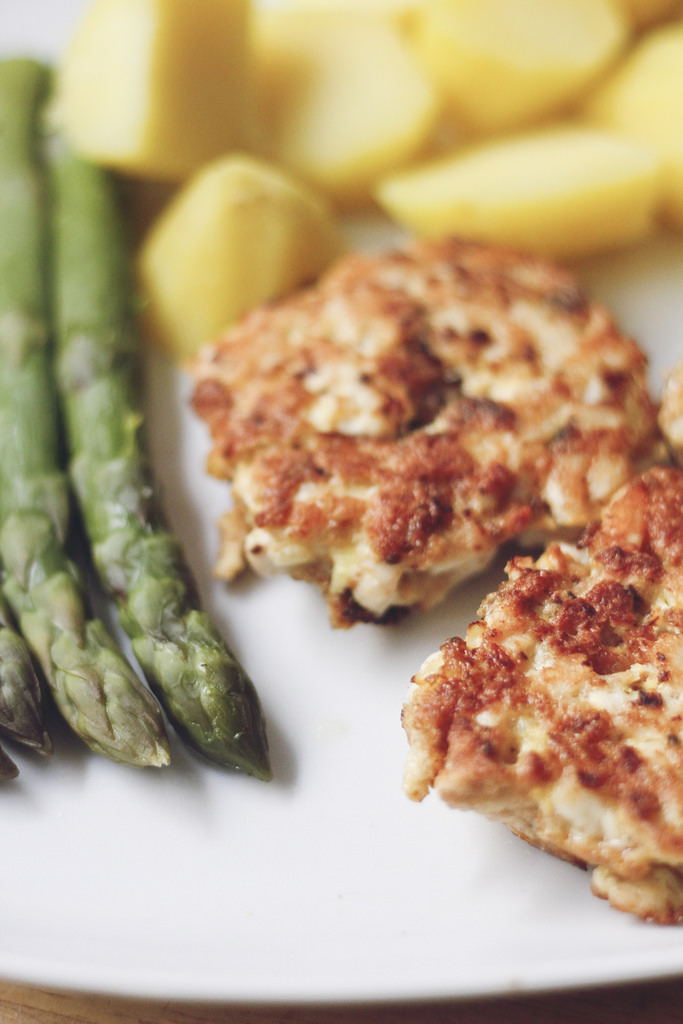boiled potatoes: (71, 1, 683, 317)
